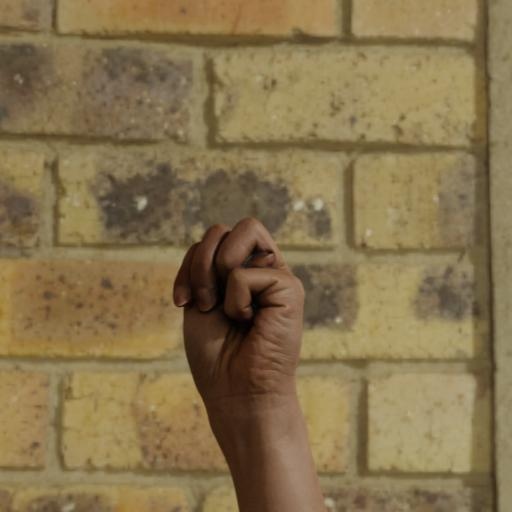M: (154, 212, 346, 500)
